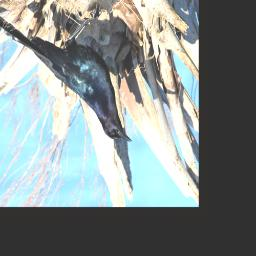Crow: (0, 2, 132, 142)
